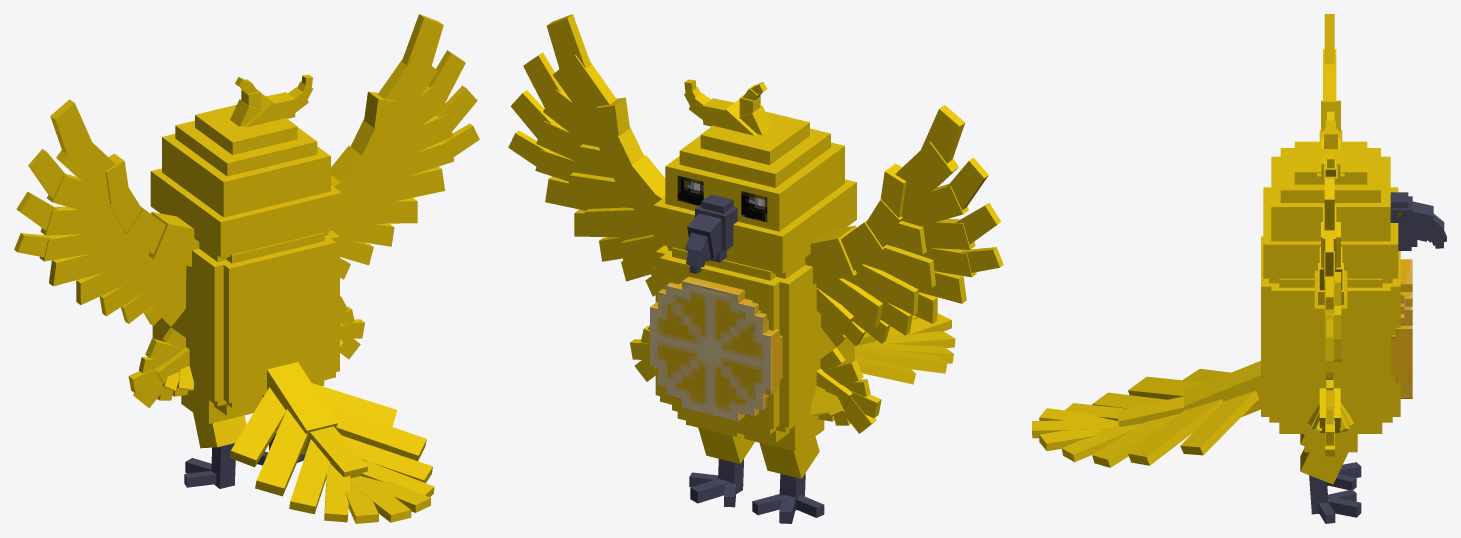
Rendered from perochelloLemonchello.fbx.
3 renders of one model, left to right at view 1: azimuth 30°, elevation 25°; view 2: azimuth 150°, elevation 25°; view 3: azimuth 270°, elevation 25°, orthographic. The views are drawn at different scales.
Visible parts, largest first — view 1: perochelloLemonchello; view 2: perochelloLemonchello; view 3: perochelloLemonchello.
Boxes of the visible parts, box(x1,y1,x2,y2) form: perochelloLemonchello: box(14, 14, 479, 523); perochelloLemonchello: box(508, 14, 1003, 523); perochelloLemonchello: box(1032, 14, 1446, 523).
Bounding box in the file's own units: 878 × 753 × 707.
